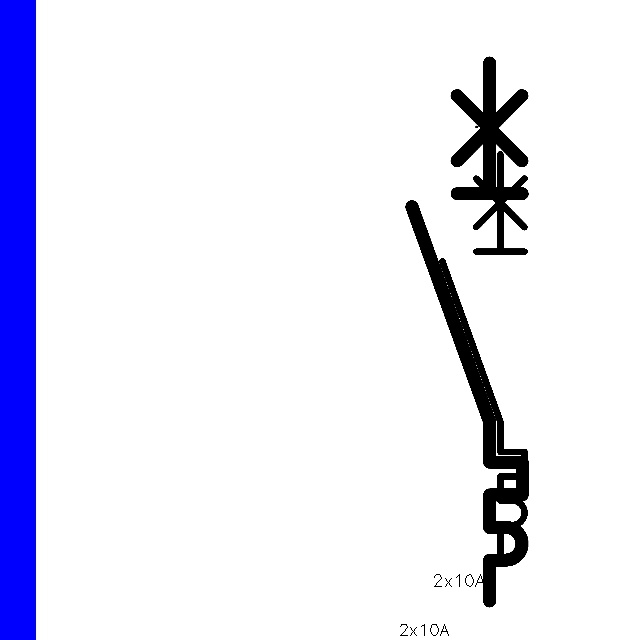interruptor_termomagnetico: (398, 49, 536, 615), (432, 143, 535, 566)
